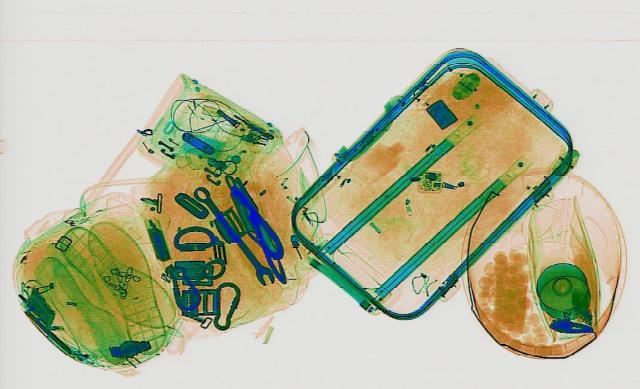Wrench: (186, 183, 280, 284)
